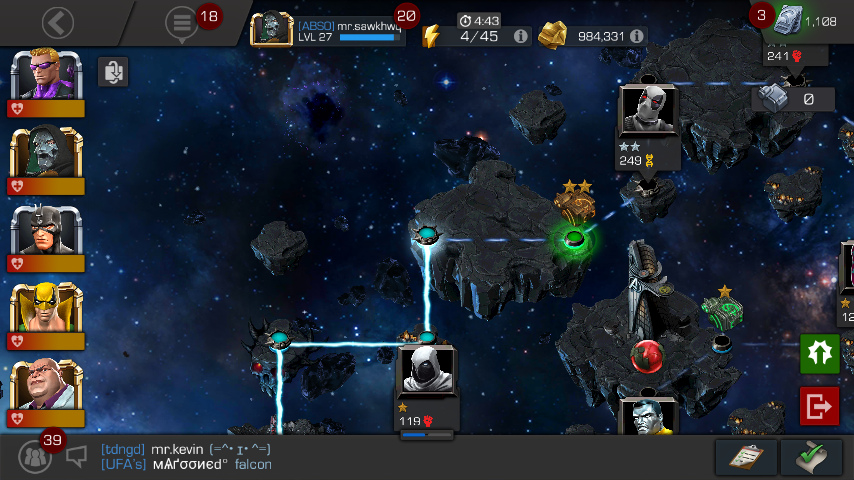green: (565, 231, 584, 247)
